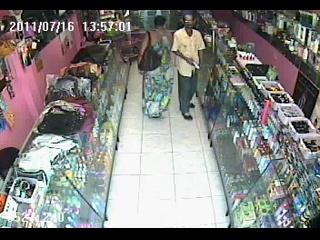Normal: (137, 15, 174, 117), (171, 13, 206, 120), (138, 31, 162, 72)
